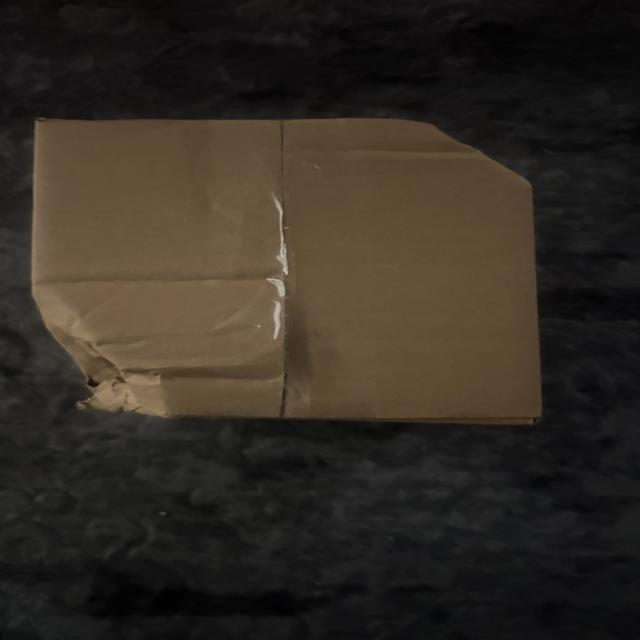damaged: (23, 111, 561, 431), (17, 292, 175, 424), (420, 106, 540, 202)
